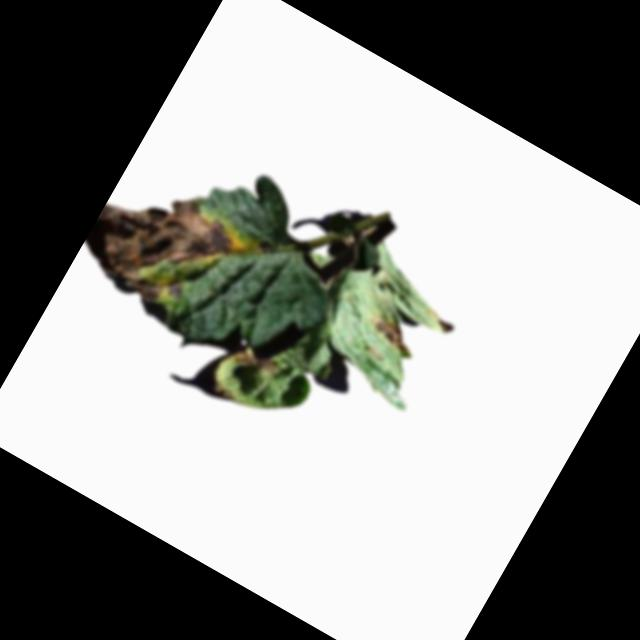Early_blight: (76, 161, 256, 330), (362, 313, 413, 355), (230, 343, 280, 383), (360, 343, 388, 367), (212, 380, 239, 402)
